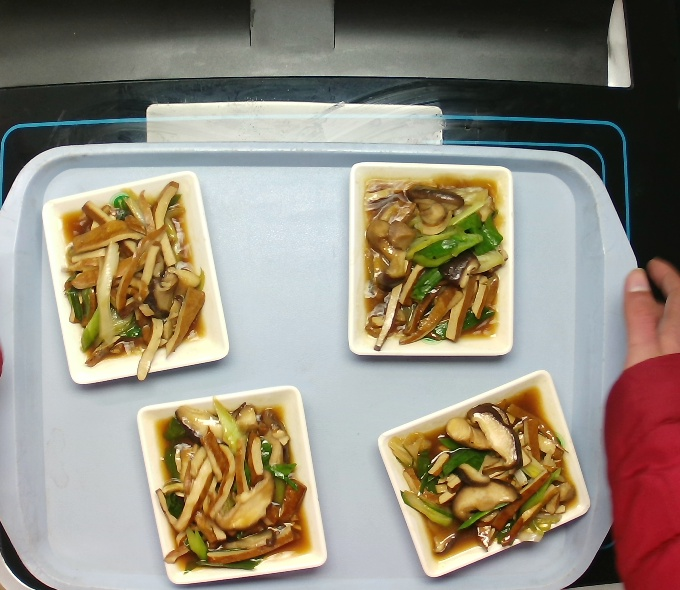wcq-XiangGuChaoXiangGan: (387, 380, 588, 569), (153, 387, 314, 580), (57, 181, 212, 377), (361, 168, 511, 358)
